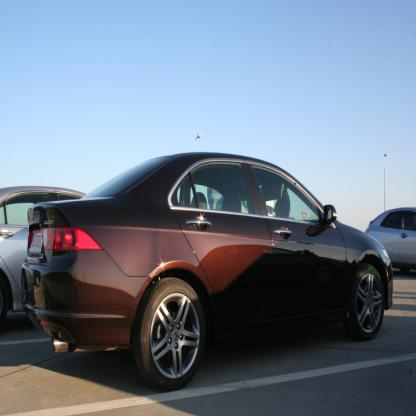Car: (21, 134, 394, 391), (0, 186, 87, 328), (364, 206, 415, 271)
